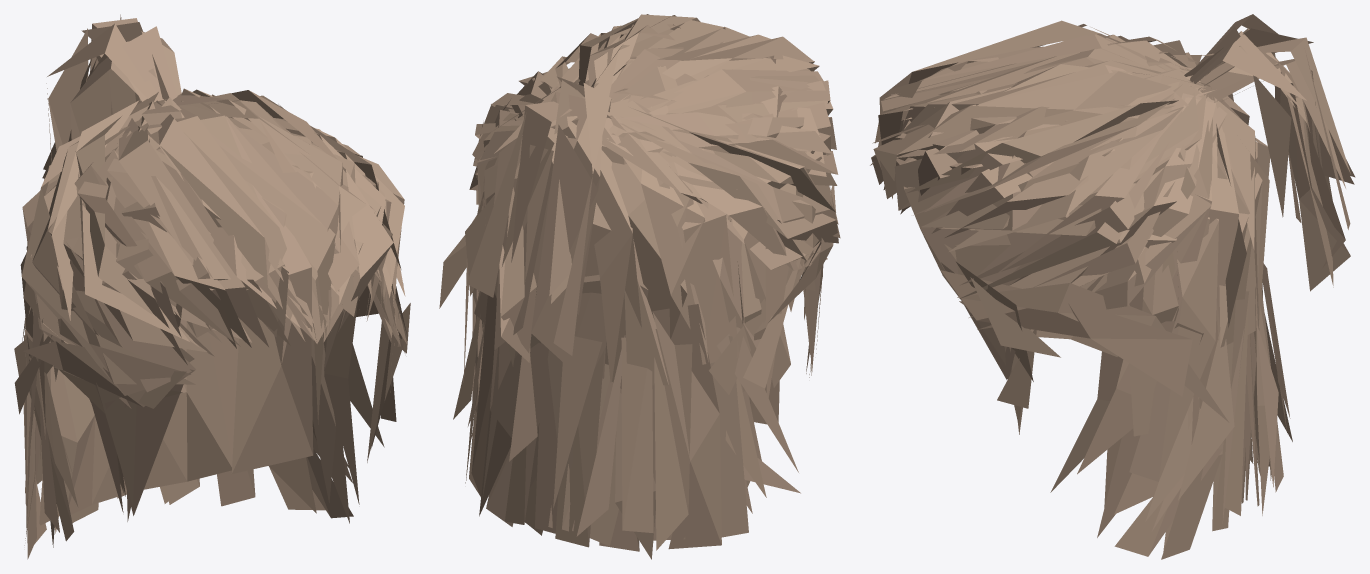
File: male_hair_08_lod2.glb
The picture shows the model from 3 angles, left to right: view 1: azimuth 30°, elevation 25°; view 2: azimuth 150°, elevation 25°; view 3: azimuth 270°, elevation 25°; orthographic projection. The views are drawn at different scales.
Parts seen in each view (by area): view 1: hair_08; view 2: hair_08; view 3: hair_08.
Part boxes in pixels (bbox=[...]): hair_08: bbox=[14, 14, 410, 559]; hair_08: bbox=[439, 14, 840, 559]; hair_08: bbox=[870, 14, 1355, 559].
Bounding box in the file's own units: 0.1785 × 0.2423 × 0.2268.
